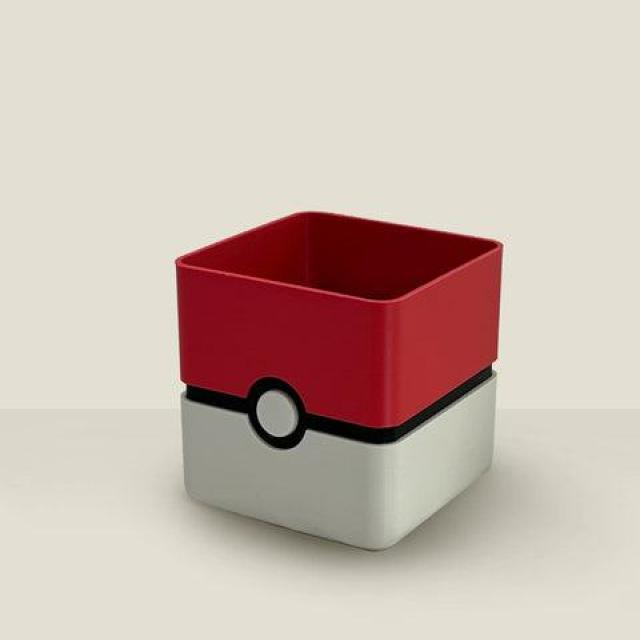Without deffect: (138, 201, 530, 556)
